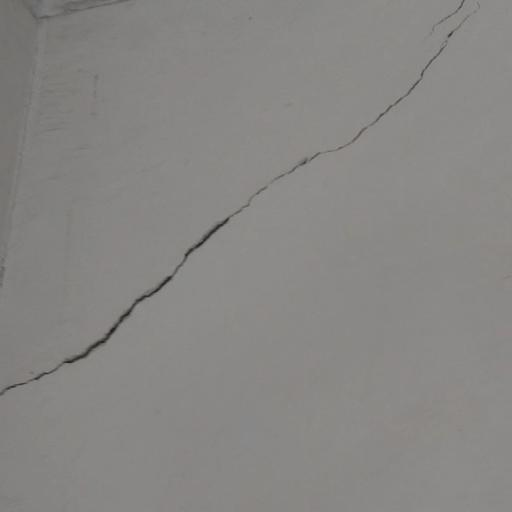major_crack: (0, 0, 508, 434)
